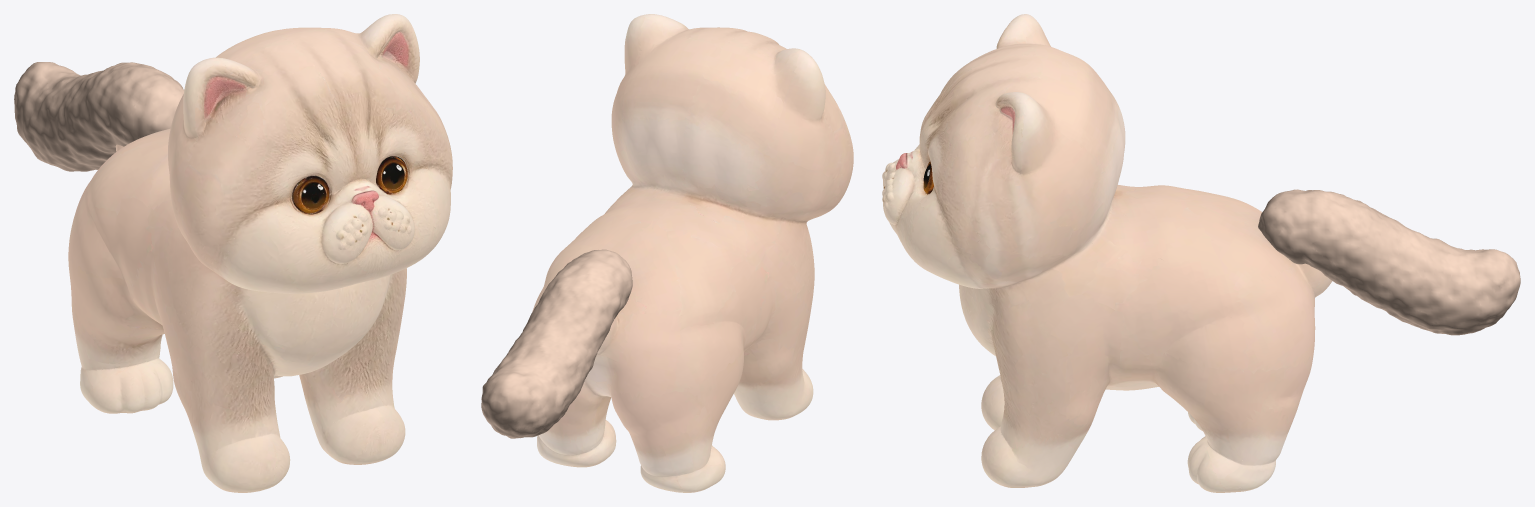
The model's file is meshy-exotic.glb.
The picture shows the model from 3 angles, left to right: view 1: azimuth 30°, elevation 25°; view 2: azimuth 150°, elevation 25°; view 3: azimuth 270°, elevation 25°; orthographic projection. The views are drawn at different scales.
Visible parts, largest first — view 1: Mesh_0, tail.001; view 2: Mesh_0, tail.001; view 3: Mesh_0, tail.001.
Part boxes in pixels (x1,y1,x2,y2): Mesh_0: (68,14,452,492); tail.001: (14,62,184,171); Mesh_0: (532,14,853,492); tail.001: (481,249,632,438); Mesh_0: (882,14,1332,492); tail.001: (1258,189,1520,335).
Size of the model in its own units: 1.13 by 1.8 by 2.64.
2 materials, 1 textured.
